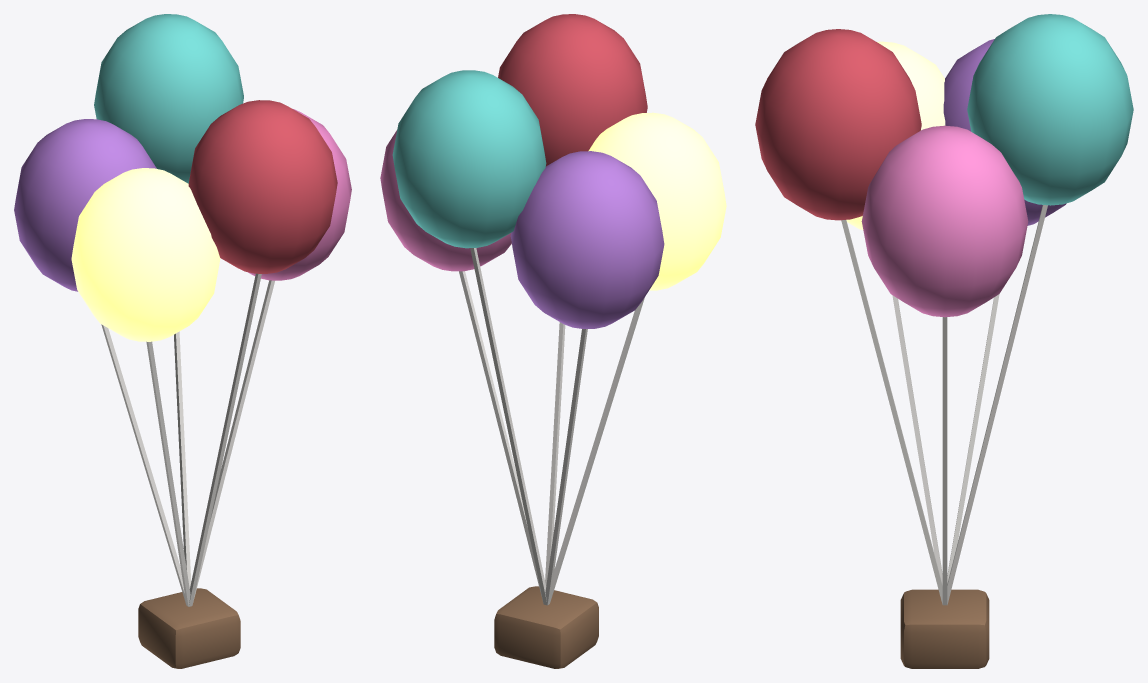
Rendered from BalloonCluster.fbx.
The picture shows the model from 3 angles, left to right: view 1: azimuth 30°, elevation 25°; view 2: azimuth 150°, elevation 25°; view 3: azimuth 270°, elevation 25°; orthographic projection. The views are drawn at different scales.
Parts seen in each view (by area): view 1: BalloonCluster; view 2: BalloonCluster; view 3: BalloonCluster.
Boxes of the visible parts, left/top/right/bottom form: BalloonCluster: left=14, top=14, right=351, bottom=668; BalloonCluster: left=380, top=14, right=726, bottom=668; BalloonCluster: left=755, top=14, right=1133, bottom=668.
Bounding box in the file's own units: 3.32 × 6.44 × 3.41.
